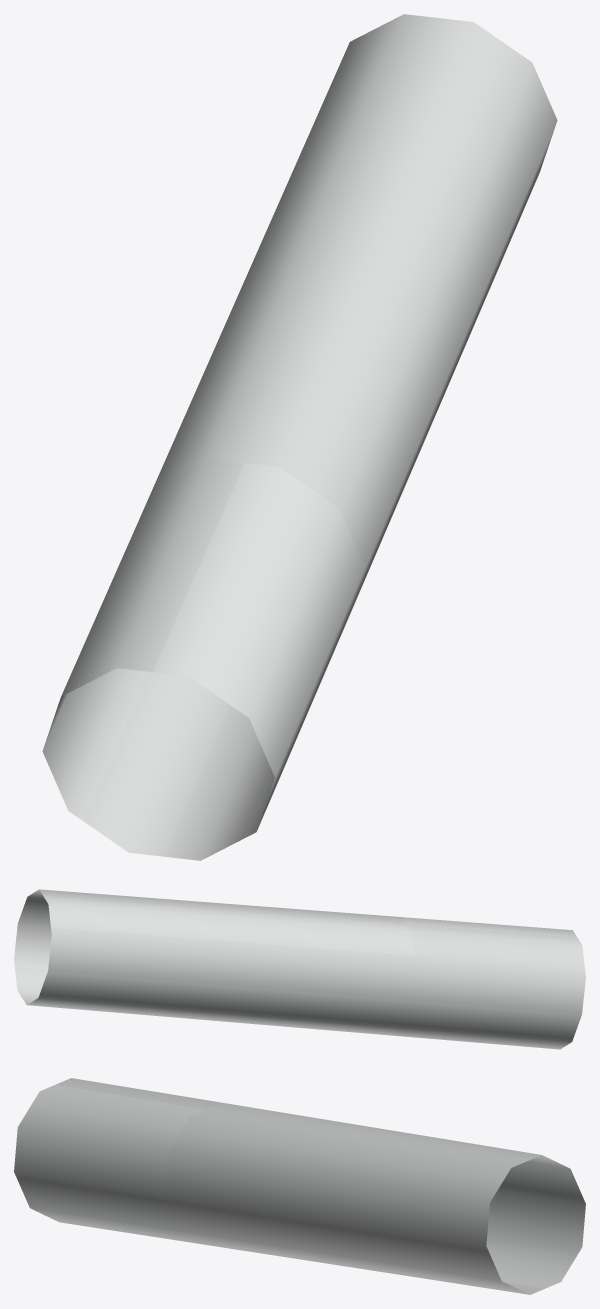
File: nycsignalarm_diagonal12_c10.obj
The picture shows the model from 3 angles, top to bottom: view 1: azimuth 30°, elevation 25°; view 2: azimuth 150°, elevation 25°; view 3: azimuth 270°, elevation 25°; orthographic projection. The views are drawn at different scales.
Parts seen in each view (by area): view 1: nycsignalarm_diagonal12_c10; view 2: nycsignalarm_diagonal12_c10; view 3: nycsignalarm_diagonal12_c10.
Part boxes in pixels (<box>): nycsignalarm_diagonal12_c10: <box>42,14,557,860</box>; nycsignalarm_diagonal12_c10: <box>14,889,585,1049</box>; nycsignalarm_diagonal12_c10: <box>14,1078,585,1294</box>.
Bounding box in the file's own units: 1.21 × 0.5739 × 1.21.
